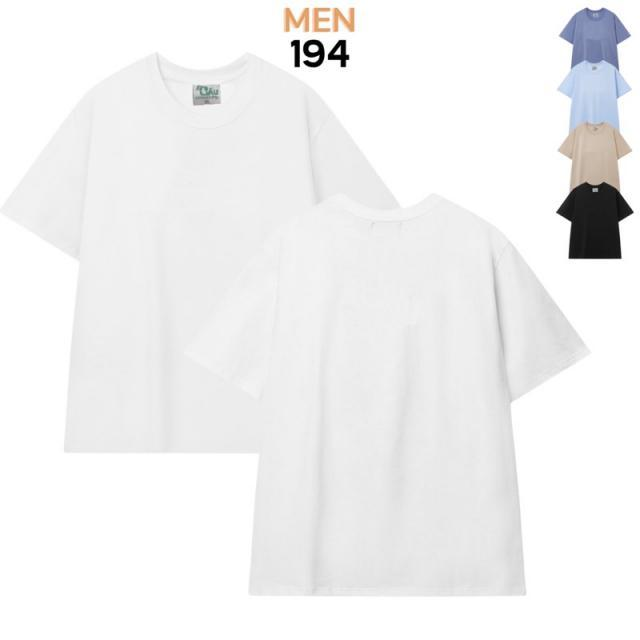Shirt: (187, 192, 589, 596), (9, 52, 401, 458)
